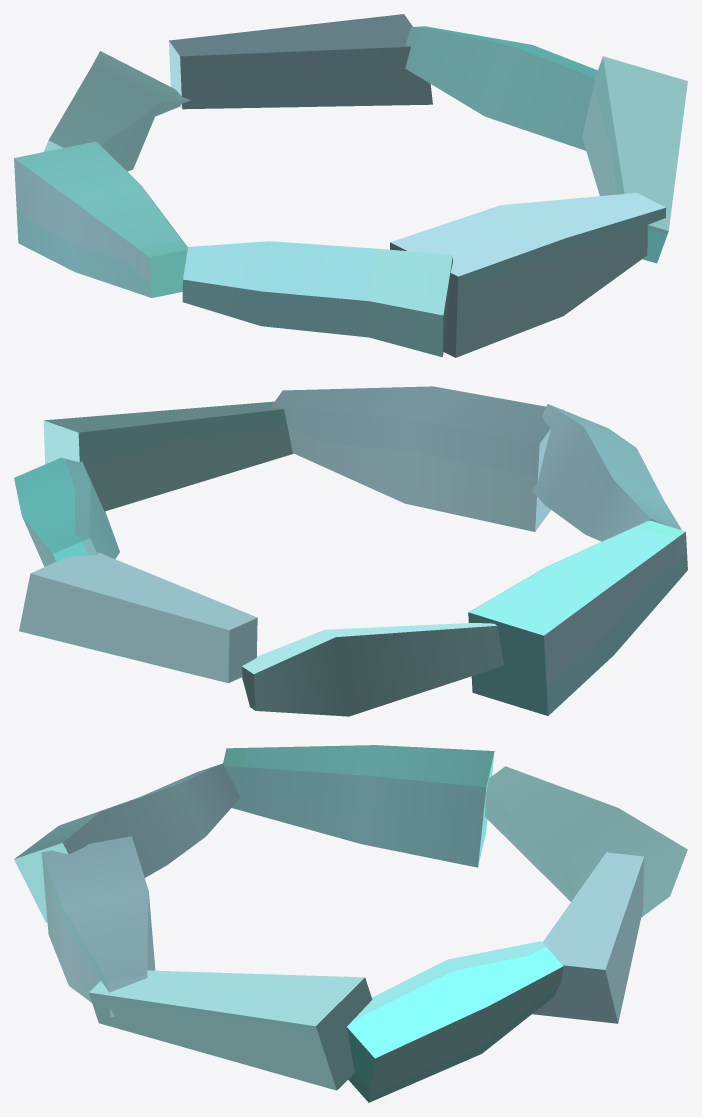
File: FishingGround.fbx
3 renders of one model, top to bottom at view 1: azimuth 30°, elevation 25°; view 2: azimuth 150°, elevation 25°; view 3: azimuth 270°, elevation 25°, orthographic. The views are drawn at different scales.
Parts seen in each view (by area): view 1: FishingGround; view 2: FishingGround; view 3: FishingGround.
Part boxes in pixels (x1,y1,x2,y2): FishingGround: (14,14,687,357); FishingGround: (14,386,687,716); FishingGround: (14,745,687,1102).
Bounding box in the file's own units: 2 × 0.365 × 2.05.
